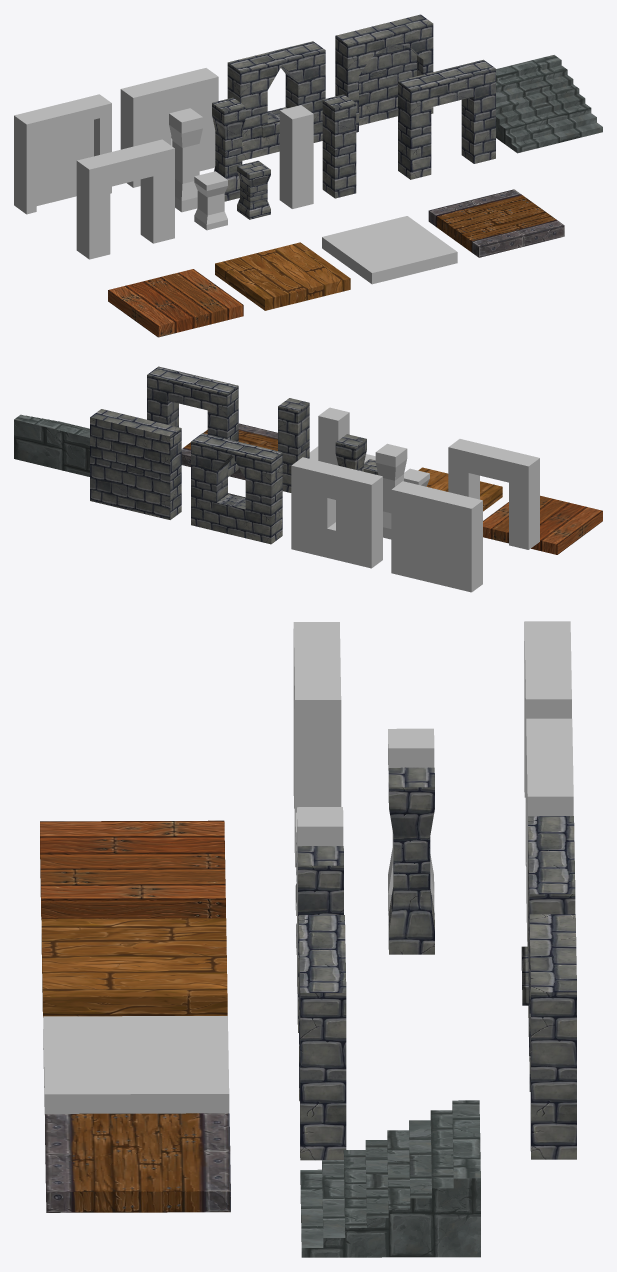
The picture shows the model from 3 angles, top to bottom: view 1: azimuth 30°, elevation 25°; view 2: azimuth 150°, elevation 25°; view 3: azimuth 270°, elevation 25°; orthographic projection. The views are drawn at different scales.
Parts seen in each view (by area): view 1: wall3.001, wall3.002, wall2.002, wall2.001, Cube.006, wall2, wall3, wall10_small, wall10_small.003, wall10_small.001, wall10_small.002, Cube (+5 smaller); view 2: wall3, wall3.001, wall2.001, wall2, wall3.002, wall2.002, Cube.006, wall10_small, Cube, Cube.004, Cube.001, wall10_small.003 (+3 smaller); view 3: Cube.006, wall10_small.003, wall10_small.001, wall10_small.002, wall10_small, wall2.001, wall2.002, wall3.002, Cube.005, wall2, wall3.001, wall3 (+3 smaller).
Boxes of the visible parts, <box> form: wall3.001: <box>14,94,111,214</box>; wall3.002: <box>76,139,174,259</box>; wall2.002: <box>398,59,495,179</box>; wall2.001: <box>335,14,433,132</box>; Cube.006: <box>496,55,602,153</box>; wall2: <box>227,41,325,160</box>; wall3: <box>120,68,218,187</box>; wall10_small: <box>108,269,243,337</box>; wall10_small.003: <box>428,189,564,257</box>; wall10_small.001: <box>215,242,350,310</box>; wall10_small.002: <box>322,216,457,284</box>; Cube: <box>322,94,356,198</box>; wall3: <box>291,457,382,568</box>; wall3.001: <box>391,481,482,592</box>; wall2.001: <box>90,409,181,519</box>; wall2: <box>191,433,282,544</box>; wall3.002: <box>448,439,539,549</box>; wall2.002: <box>147,366,238,476</box>; Cube.006: <box>14,414,89,476</box>; wall10_small: <box>483,495,602,554</box>; Cube: <box>278,398,309,492</box>; Cube.004: <box>375,443,407,539</box>; Cube.001: <box>318,407,349,465</box>; wall10_small.003: <box>181,423,277,480</box>; Cube.006: <box>300,1100,480,1257</box>; wall10_small.003: <box>45,1113,230,1212</box>; wall10_small.001: <box>41,918,227,1017</box>; wall10_small.002: <box>43,1016,229,1114</box>; wall10_small: <box>40,820,225,919</box>; wall2.001: <box>529,914,576,1159</box>; wall2.002: <box>299,915,346,1160</box>; wall3.002: <box>293,622,341,867</box>; Cube.005: <box>388,767,434,954</box>; wall2: <box>521,816,575,1061</box>; wall3.001: <box>524,621,571,866</box>; wall3: <box>526,718,573,946</box>.
Size of the model in its own units: 24.05 by 5.25 by 11.64.
